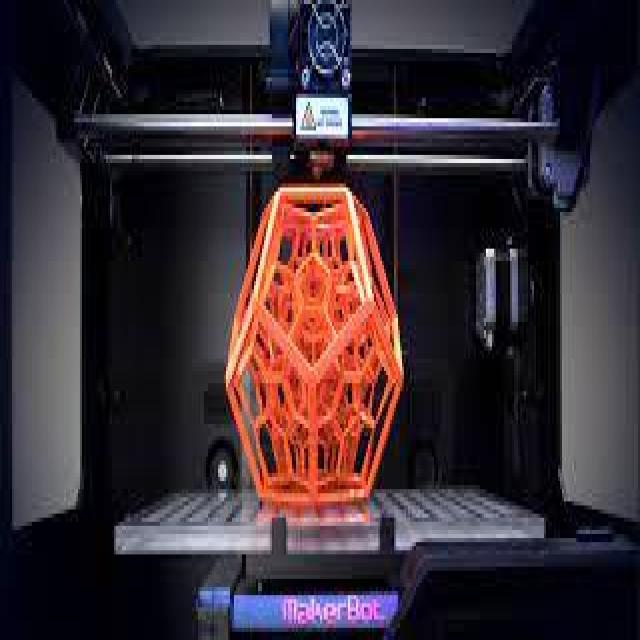Without deffect: (220, 175, 420, 509)
